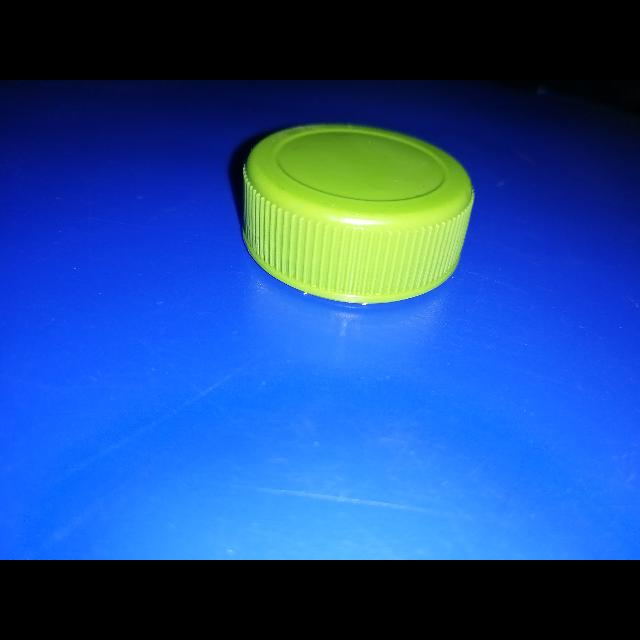plastic_bottle_cap: (239, 121, 477, 305)
